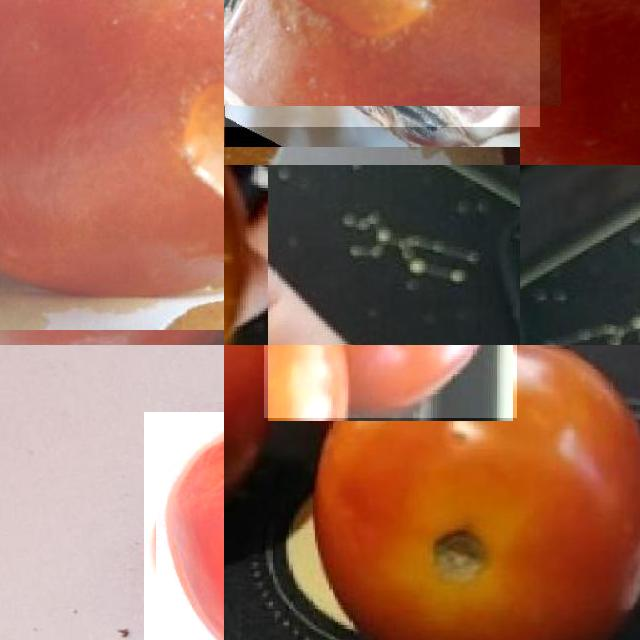Fresh Tomato: (307, 345, 640, 640), (264, 345, 516, 417)
Rotten Tomato: (0, 0, 224, 345), (224, 0, 540, 126), (144, 412, 224, 640), (224, 165, 268, 345)
